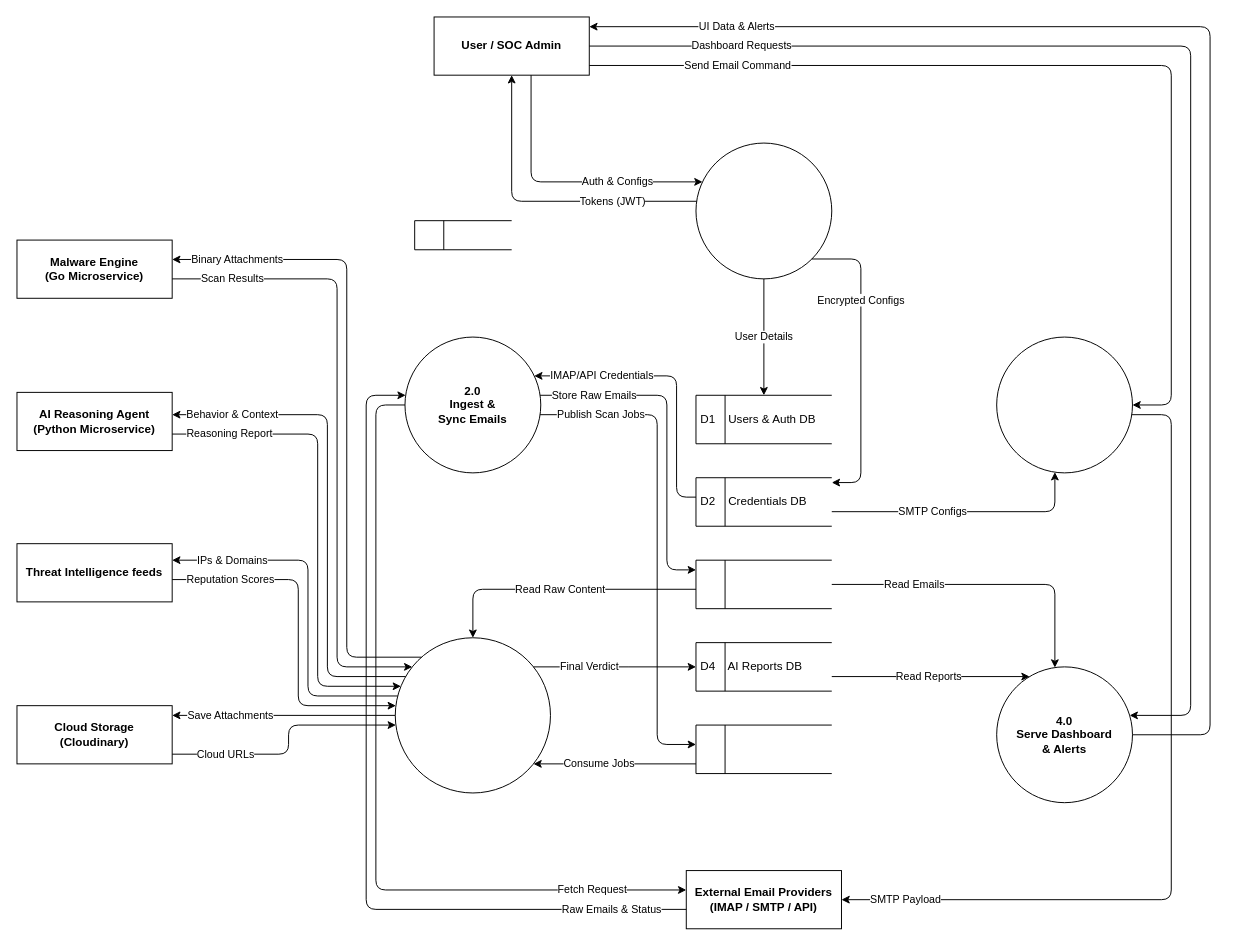
Some shapes in this 1235 by 946 pixel diagram are drawn without their labels. Here are the shapes that lost their labels. From the top down, the centre of each, then its label:
the point at 763,210: 1.0 Manage Identity & Configurations
the point at 1064,404: 5.0 Route Outbound Emails
the point at 763,584: D3 Emails DB
the point at 472,715: 3.0 Execute 10-Stage Security Pipeline
the point at 763,749: D5 Redis Job Queue
